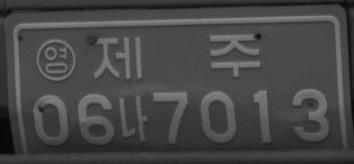0: (198, 90, 237, 143), (32, 93, 70, 146)
1: (244, 88, 284, 142)
3: (291, 87, 330, 144)
6: (77, 92, 115, 146)
7: (152, 90, 189, 144)
나: (117, 94, 148, 141)
영: (35, 38, 76, 81)
전남_D: (91, 33, 261, 80)
